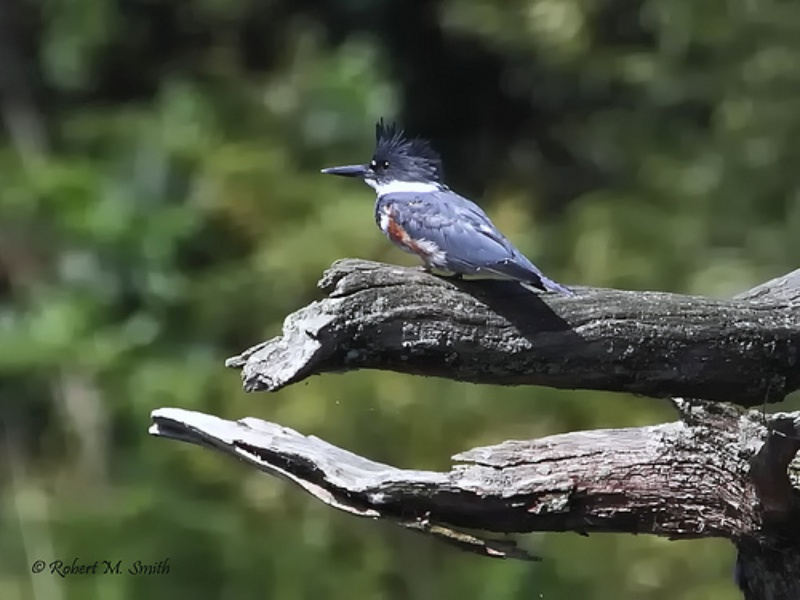kingfisher: (319, 115, 575, 303)
